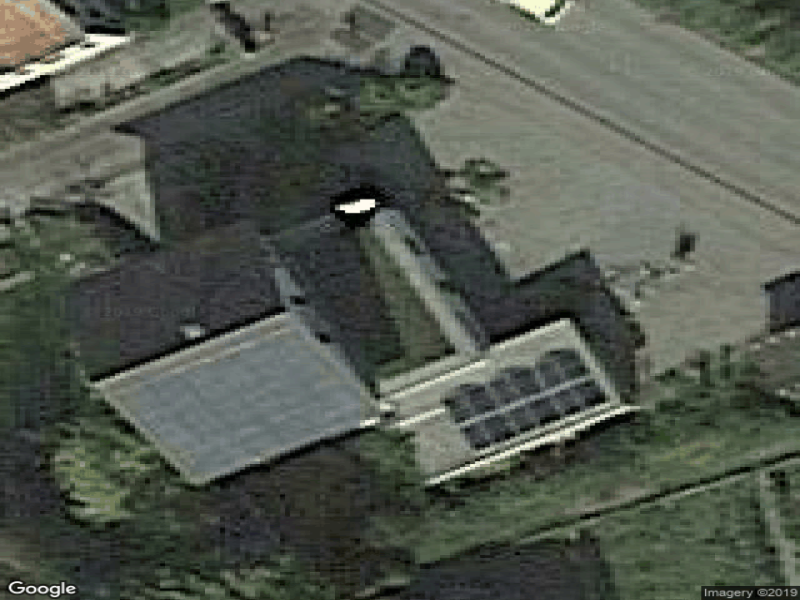pv: (119, 333, 374, 480), (443, 351, 605, 448)
